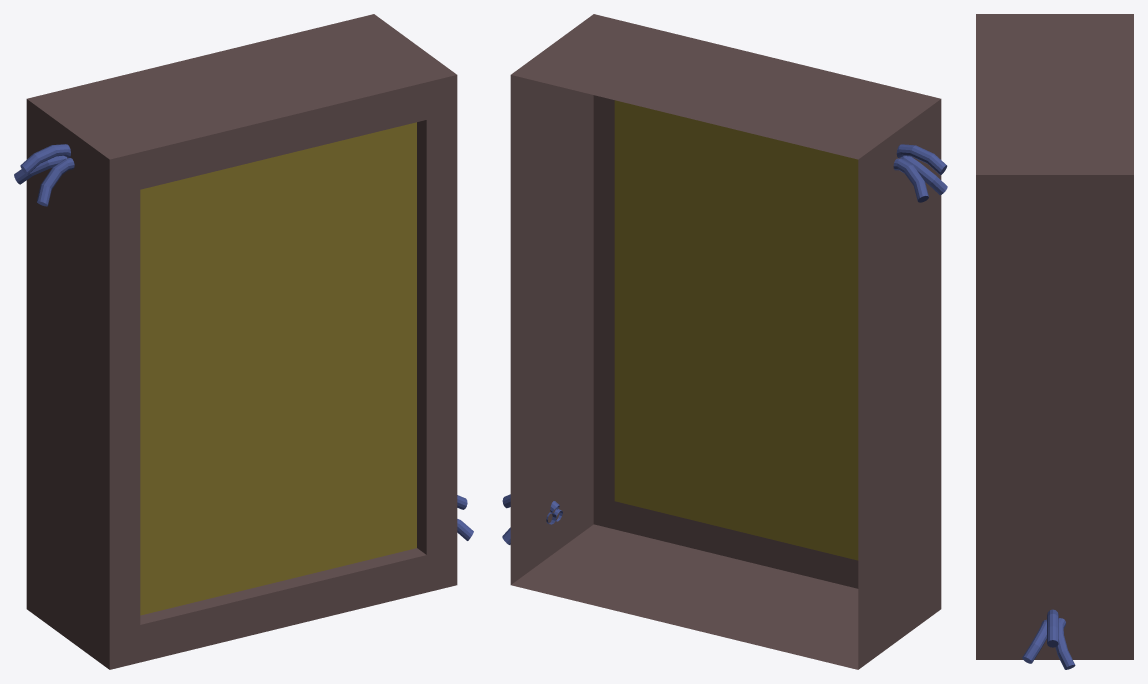
File: DetectorDeMano.fbx
3 views of the same model, side by side, from view 1: azimuth 30°, elevation 25°; view 2: azimuth 150°, elevation 25°; view 3: azimuth 270°, elevation 25° (orthographic). The views are drawn at different scales.
Parts seen in each view (by area): view 1: pCylinder10; view 2: pCylinder10; view 3: pCylinder10.
Part boxes in pixels (x1,y1,x2,y2): pCylinder10: (14, 14, 473, 669); pCylinder10: (502, 14, 947, 669); pCylinder10: (976, 14, 1133, 669).
Bounding box in the file's own units: 1.41 × 1.55 × 0.4569.
